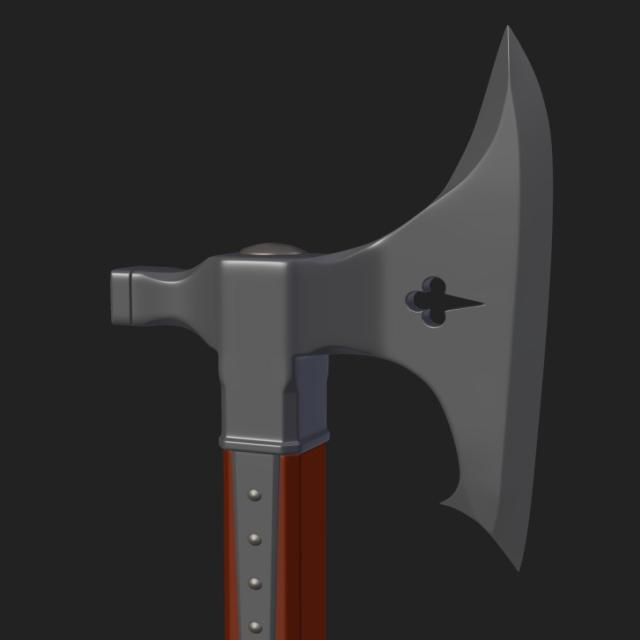Gun: (81, 26, 570, 640)
